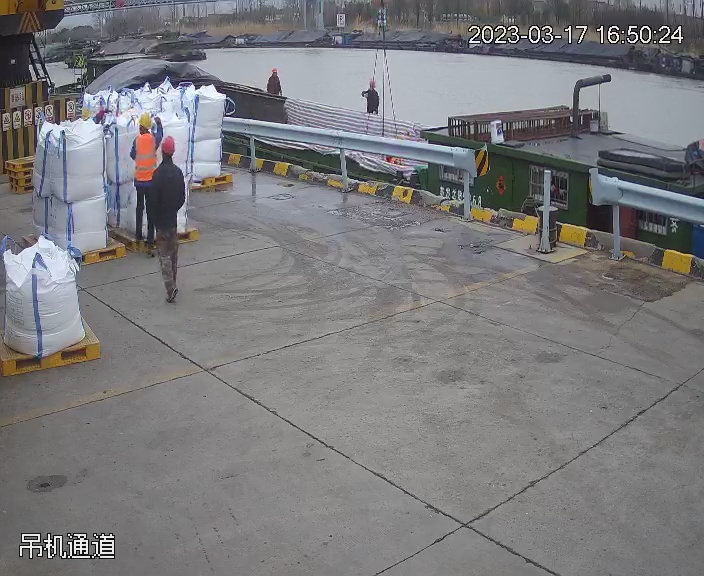head: (145, 133, 184, 181), (131, 111, 162, 155), (367, 80, 379, 99), (268, 67, 281, 83)
helmet: (160, 135, 177, 155), (136, 111, 153, 129), (369, 80, 376, 88), (271, 68, 278, 73)
people: (150, 133, 191, 303), (128, 109, 161, 248), (363, 79, 380, 114), (266, 67, 284, 96)
